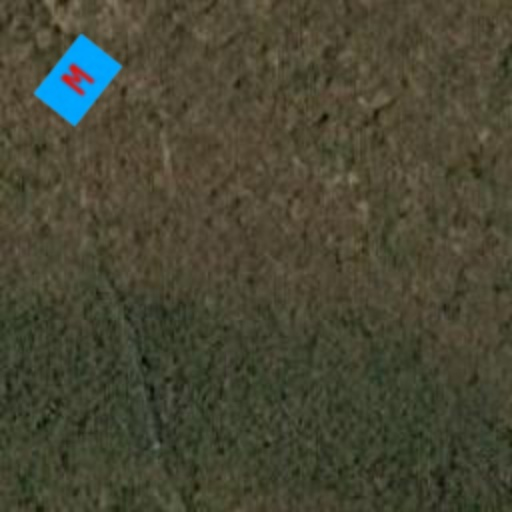rectangle: (22, 24, 134, 136)
